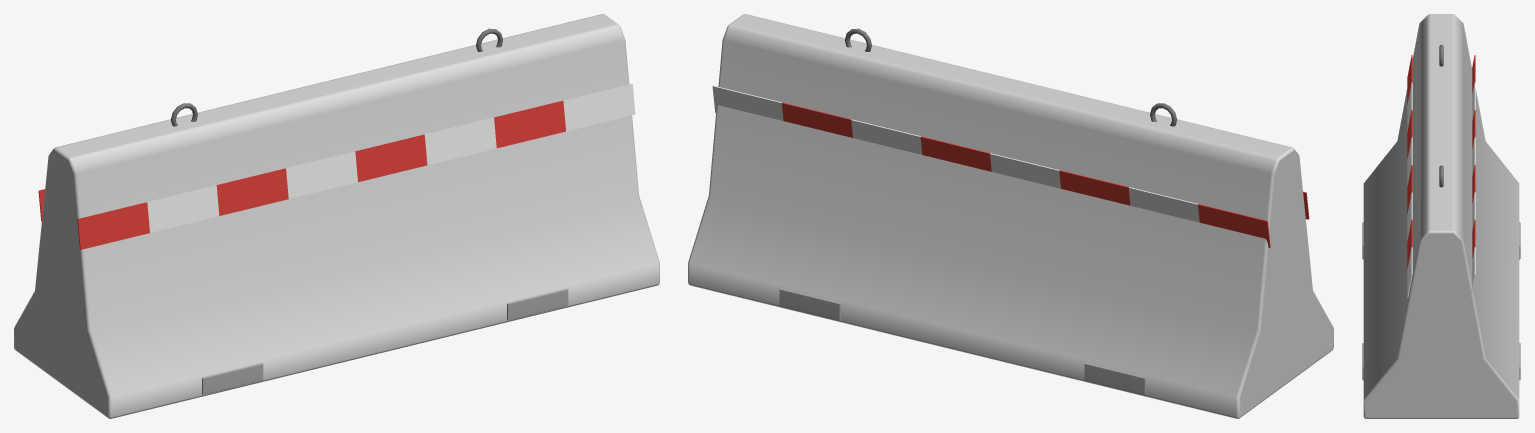
File: wall_concrete.glb
The picture shows the model from 3 angles, left to right: view 1: azimuth 30°, elevation 25°; view 2: azimuth 150°, elevation 25°; view 3: azimuth 270°, elevation 25°; orthographic projection. The views are drawn at different scales.
Parts seen in each view (by area): view 1: SM_wall_concrete; view 2: SM_wall_concrete; view 3: SM_wall_concrete.
Part boxes in pixels (x1,y1,x2,y2): SM_wall_concrete: [14, 14, 659, 418]; SM_wall_concrete: [688, 14, 1333, 418]; SM_wall_concrete: [1362, 14, 1520, 418].
Size of the model in its own units: 2 by 0.868 by 0.61.
